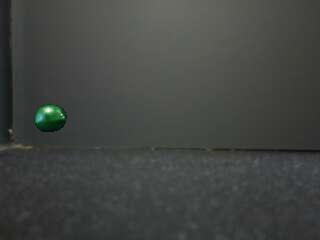Lime: (35, 105, 68, 133)
